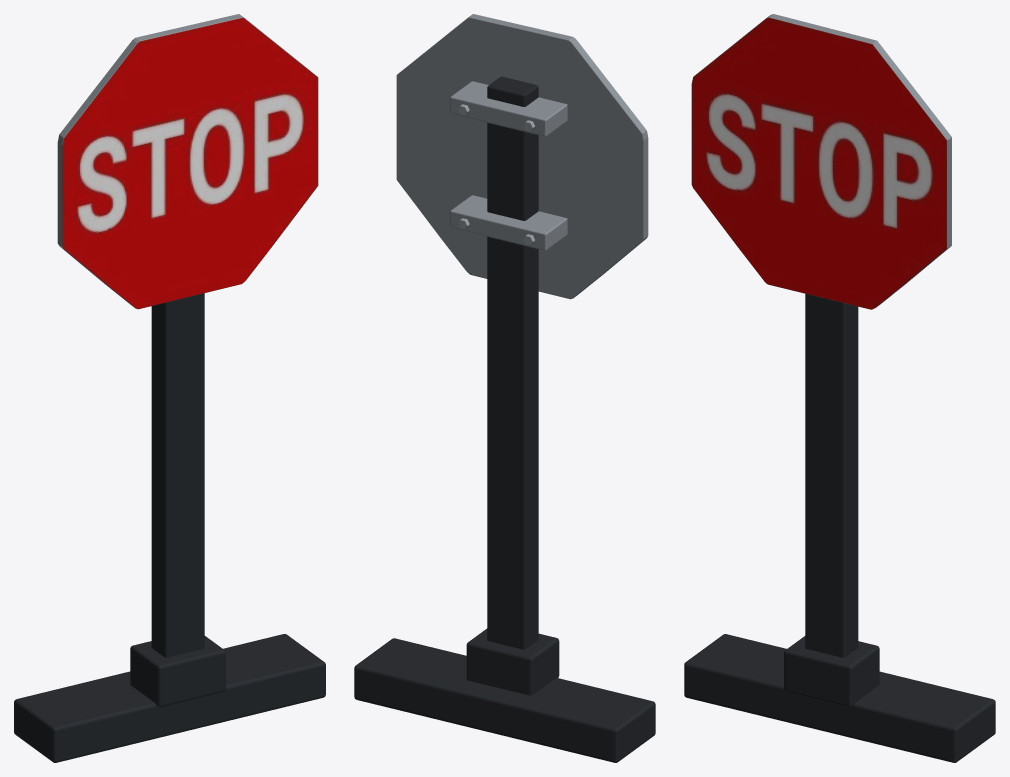
3 renders of one model, left to right at view 1: azimuth 30°, elevation 25°; view 2: azimuth 150°, elevation 25°; view 3: azimuth 330°, elevation 25°, orthographic. The views are drawn at different scales.
Parts seen in each view (by area): view 1: g3, g0, g2; view 2: g0, g2; view 3: g3, g0, g2.
Boxes of the visible parts, box(x1,y1,x2,y2) form: g3: box(62, 17, 318, 308); g0: box(14, 293, 325, 762); g2: box(57, 14, 317, 309); g0: box(354, 76, 655, 762); g2: box(396, 14, 648, 299); g3: box(691, 17, 947, 309); g0: box(684, 294, 995, 762); g2: box(692, 14, 951, 309).
Bounding box in the file's own units: 0.096 × 0.0265 × 0.2358.
Materials: 4 (1 with a texture image).
